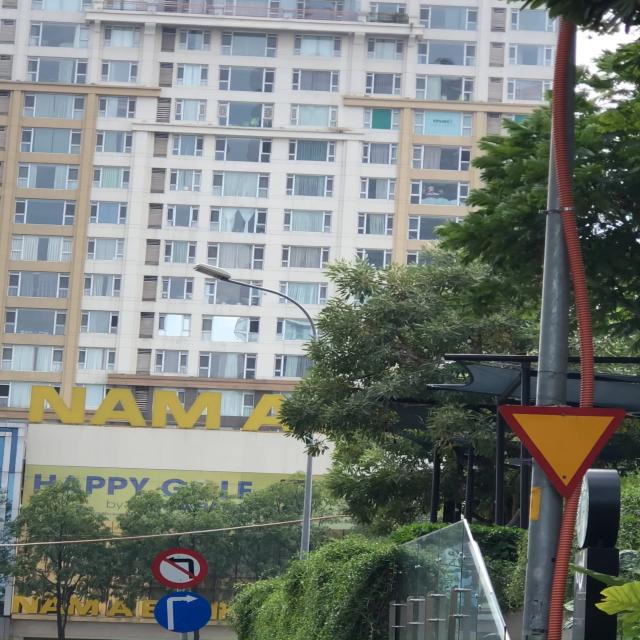Bien bao cam re trai: (148, 546, 212, 588)
Bien bao giao nhau voi duong uu tien: (492, 396, 634, 500)
Bien bao huong di phai theo: (150, 587, 217, 639)
